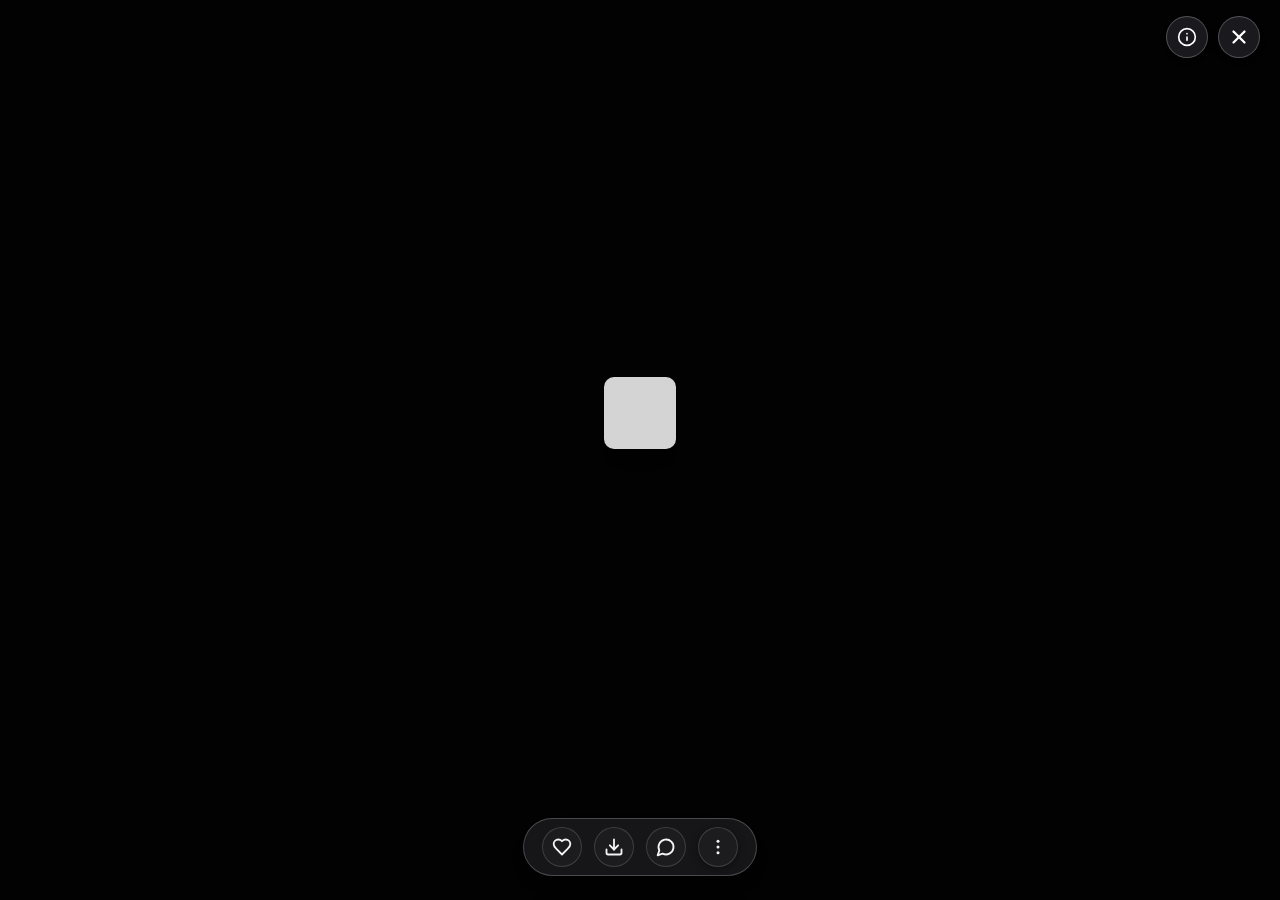
it: PhotoLightbox › opens the comment panel when "View comments" is chosen from the action menu
What coordinates should you click on to do the following:
click the button named "more actions"
I would click on:
 (718, 847)
Its box is [698,827,738,867].
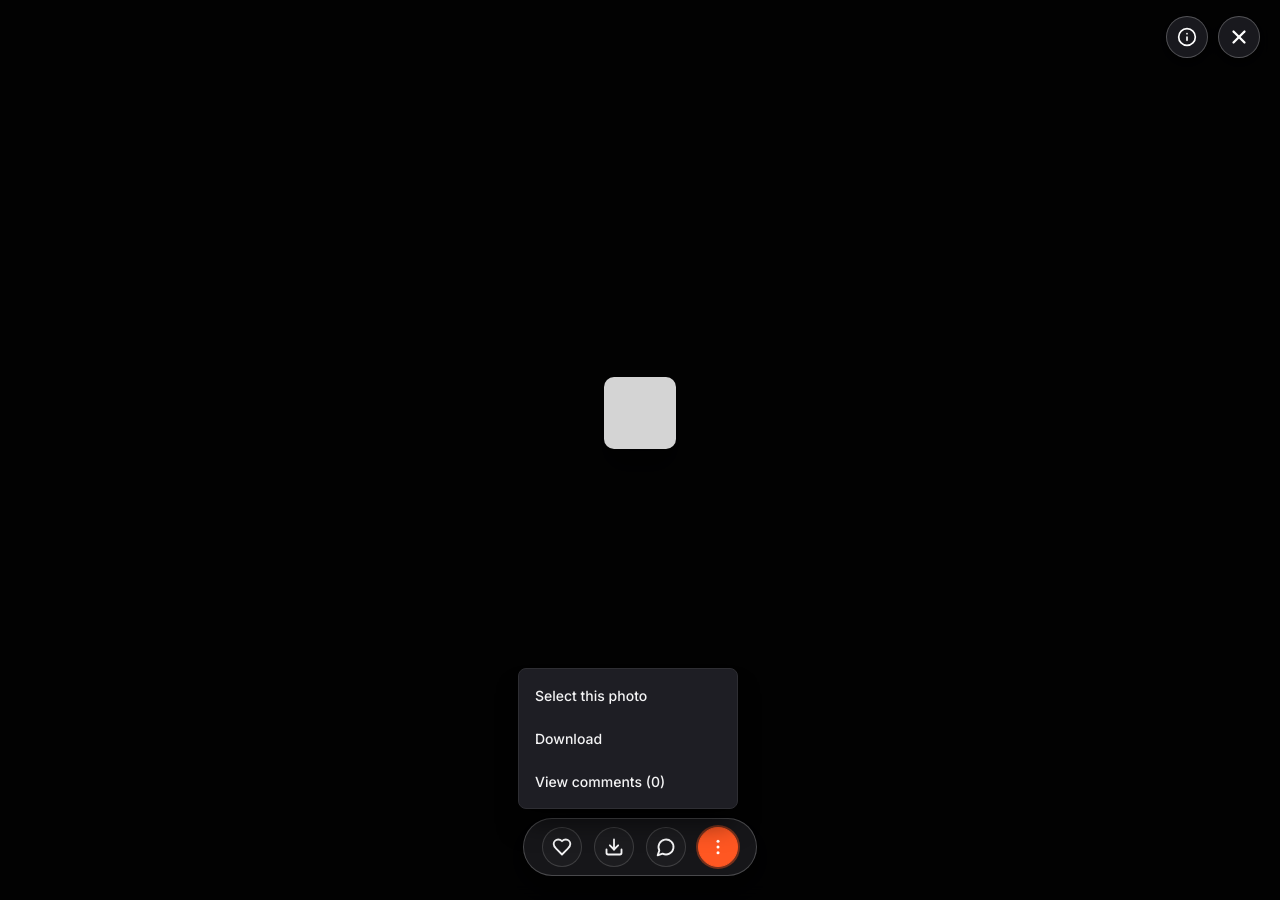
What coordinates should you click on to do the following:
click the menu item "View comments (0)"
I would click on:
 (628, 782)
Its box is [519,761,737,802].
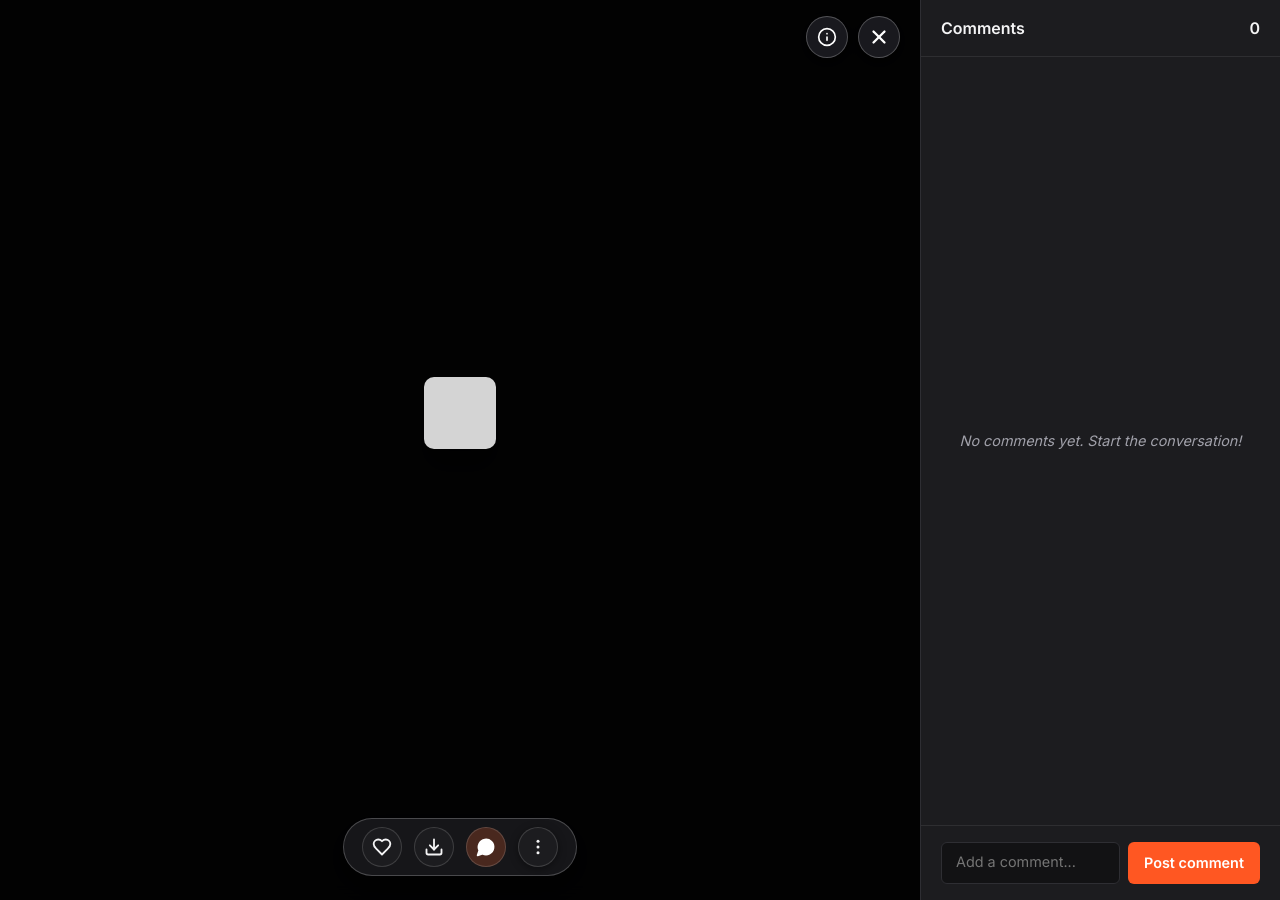
Now the element "Comments" is shown, box [920,0,1279,899]
